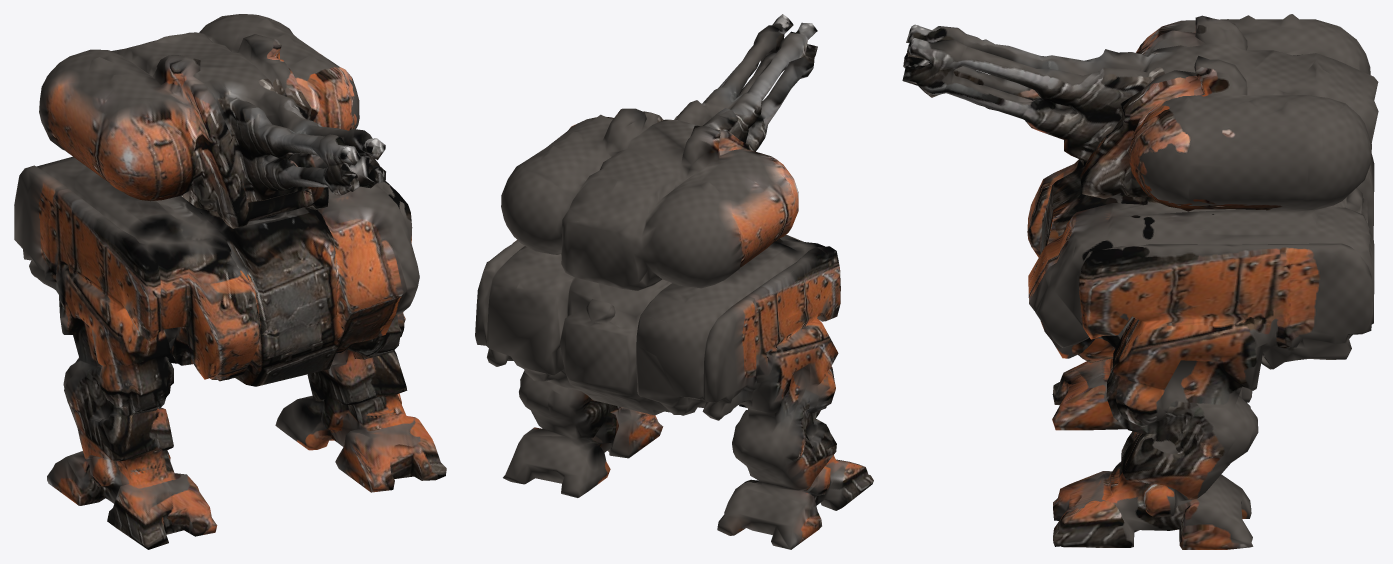
The model's file is flakjack_lod1.glb.
3 renders of one model, left to right at view 1: azimuth 30°, elevation 25°; view 2: azimuth 150°, elevation 25°; view 3: azimuth 270°, elevation 25°, orthographic. The views are drawn at different scales.
Visible parts, largest first — view 1: geometry_0; view 2: geometry_0; view 3: geometry_0.
Boxes of the visible parts, x1,y1,x2,y2 form: geometry_0: [14, 14, 446, 549]; geometry_0: [475, 14, 873, 549]; geometry_0: [902, 14, 1378, 549].
Bounding box in the file's own units: 1.55 × 2 × 1.96.
1 material, 1 textured.
